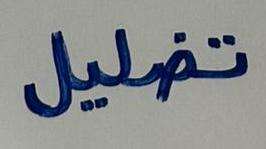dad: (139, 20, 198, 108)
lam: (18, 19, 74, 125), (106, 16, 136, 97)
teh: (199, 23, 251, 96)
yeh: (75, 54, 106, 115)
